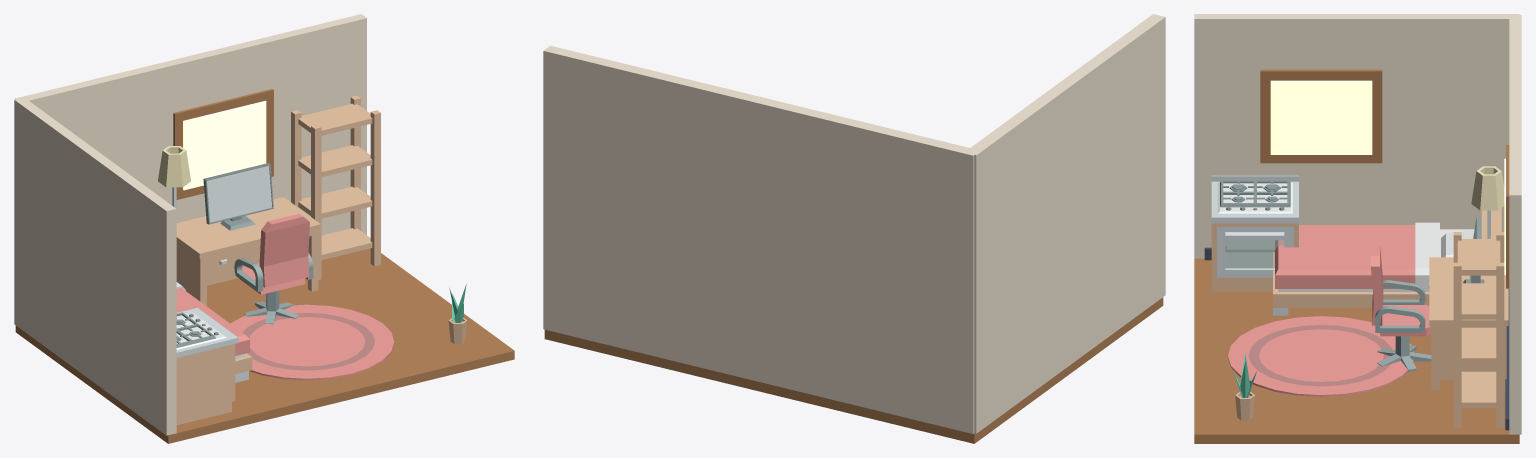
File: room_home.glb
3 views of the same model, side by side, from view 1: azimuth 30°, elevation 25°; view 2: azimuth 150°, elevation 25°; view 3: azimuth 270°, elevation 25° (orthographic). The views are drawn at different scales.
Parts seen in each view (by area): view 1: room_wall_left, room_wall_back, room_floor, furn_shelf, furn_rug, furn_desk, furn_kitchen, win_pane_back, chair, furn_computer, win_frame_back, furn_lamp (+2 smaller); view 2: room_wall_back, room_wall_left, room_floor; view 3: room_wall_left, room_floor, furn_rug, cover, furn_shelf, win_pane_left, furn_kitchen, room_wall_back, furn_desk, win_frame_left, door, furn_bed (+8 smaller).
Boxes of the visible parts, box(x1,y1,x2,y2) form: room_wall_left: box(14, 99, 176, 435); room_wall_back: box(15, 14, 366, 235); room_floor: box(15, 248, 514, 443); furn_shelf: box(291, 95, 380, 279); furn_rug: box(230, 304, 394, 380); furn_desk: box(176, 197, 320, 306); furn_kitchen: box(176, 308, 238, 425); win_pane_back: box(183, 100, 266, 190); chair: box(234, 213, 313, 294); furn_computer: box(203, 163, 273, 230); win_frame_back: box(173, 89, 273, 199); furn_lamp: box(158, 146, 190, 208); room_wall_back: box(543, 45, 979, 433); room_wall_left: box(970, 14, 1165, 433); room_floor: box(544, 297, 1163, 443); room_wall_left: box(1194, 14, 1519, 258); room_floor: box(1194, 258, 1519, 443); furn_rug: box(1228, 316, 1413, 396); cover: box(1275, 222, 1439, 289); furn_shelf: box(1453, 232, 1504, 428); win_pane_left: box(1270, 80, 1372, 154); furn_kitchen: box(1211, 175, 1298, 291); room_wall_back: box(1509, 15, 1521, 434); furn_desk: box(1429, 257, 1508, 390); win_frame_left: box(1260, 69, 1382, 163); door: box(1217, 226, 1293, 277); furn_bed: box(1273, 208, 1501, 315).
Bounding box in the file's own units: 4.22 × 2.7 × 3.22.
